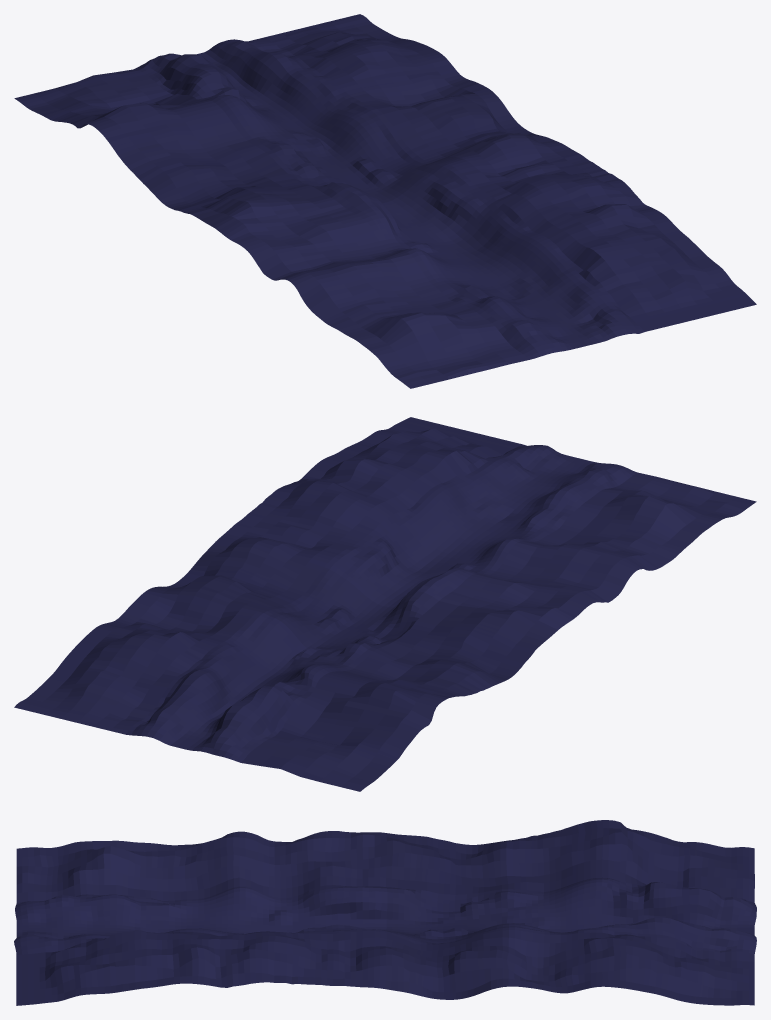
File: base environmentA.fbx
3 renders of one model, top to bottom at view 1: azimuth 30°, elevation 25°; view 2: azimuth 150°, elevation 25°; view 3: azimuth 270°, elevation 25°, orthographic. The views are drawn at different scales.
Visible parts, largest first — view 1: Plane; view 2: Plane; view 3: Plane.
Boxes of the visible parts, box(x1,y1,x2,y2) form: Plane: box(14, 14, 756, 388); Plane: box(14, 417, 756, 791); Plane: box(14, 820, 756, 1005).
Bounding box in the file's own units: 135623 × 17309 × 268274.
Materials: 1 (1 with a texture image).
